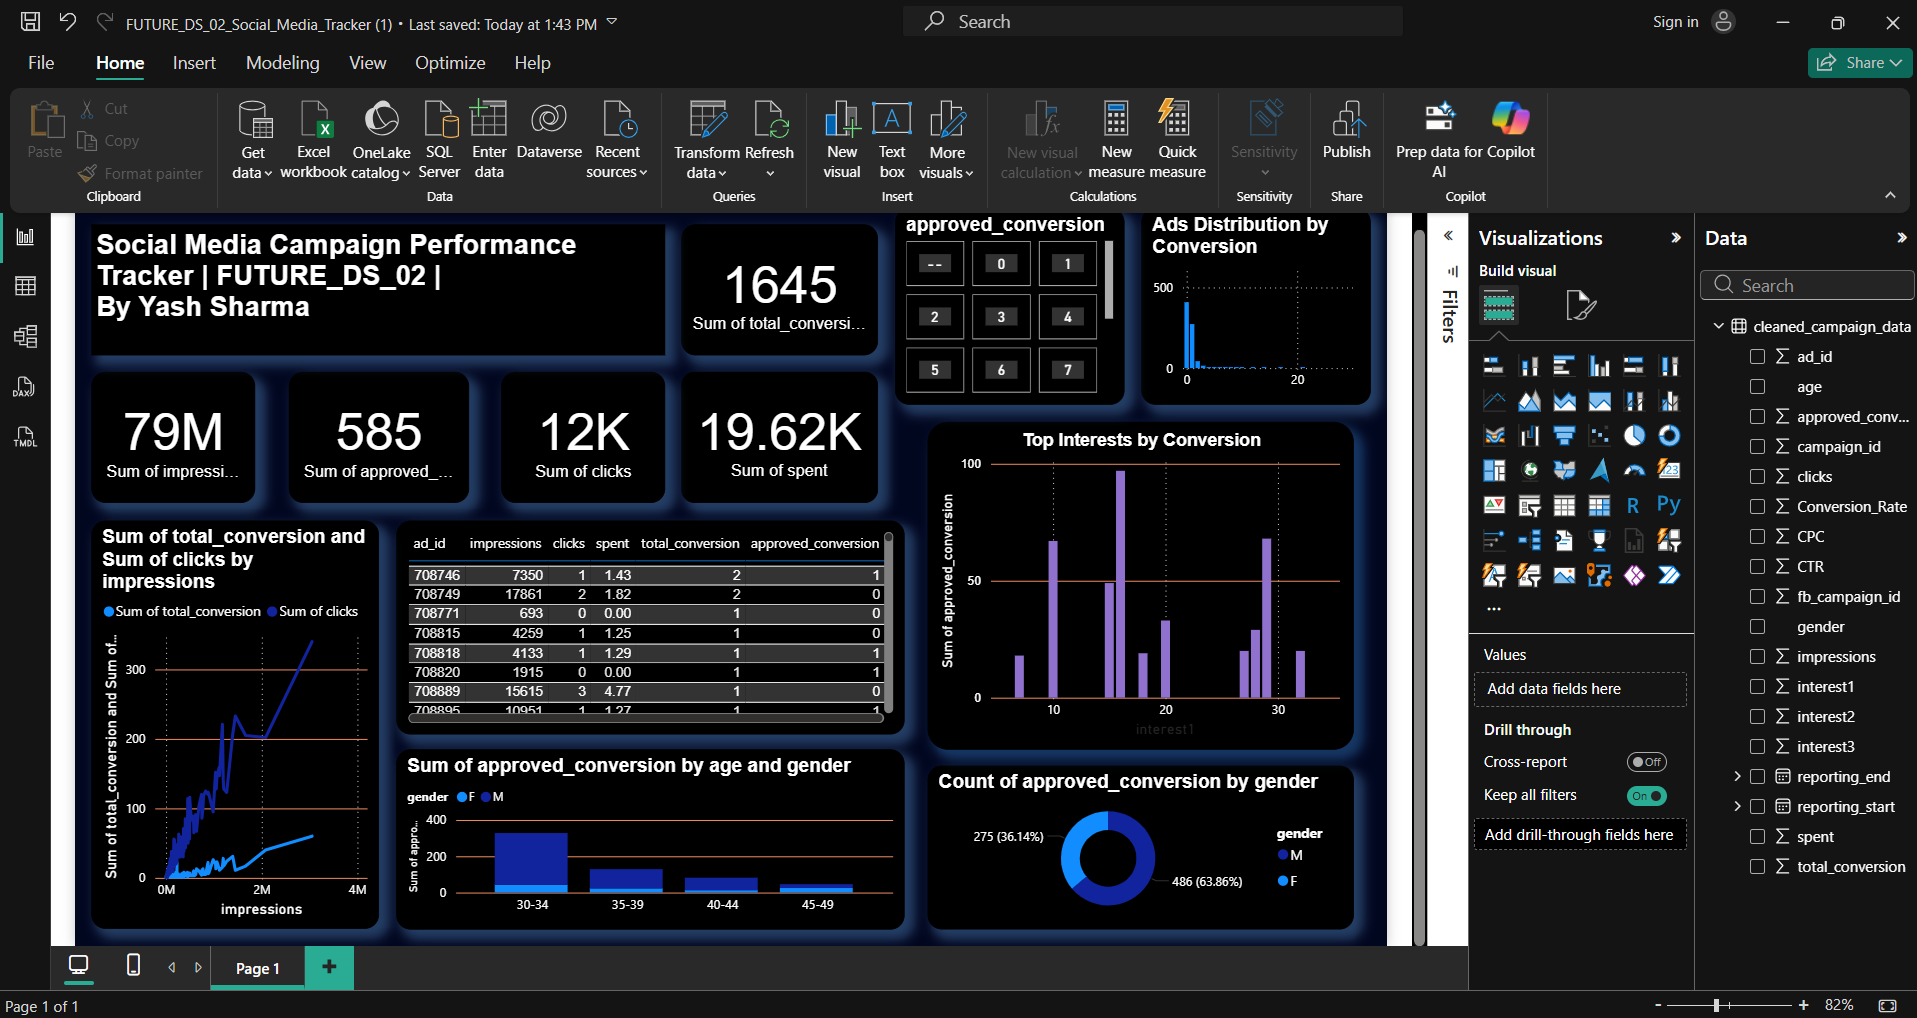

Layout of this report page (visuals, bound fields, positions):
{"tool":"powerbi","page":{"name":"Page 1","canvas":[1280,720],"ordinal":0},"visuals":[{"type":"card","fields":{"Values":["Sum(cleaned_campaign_data.impressions)"]},"box":[16,160,160,128],"z":0},{"type":"card","fields":{"Values":["Sum(cleaned_campaign_data.total_conversion)"]},"box":[592,16,192,128],"z":1000},{"type":"card","fields":{"Values":["Sum(cleaned_campaign_data.spent)"]},"box":[592,160,192,128],"z":2000},{"type":"card","fields":{"Values":["Sum(cleaned_campaign_data.approved_conversion)"]},"box":[208,160,176,128],"z":3000},{"type":"card","fields":{"Values":["Sum(cleaned_campaign_data.clicks)"]},"box":[416,160,160,128],"z":4000},{"type":"columnChart","title":"Ads Distribution by Conversion","fields":{"Y":["CountNonNull(cleaned_campaign_data.ad_id)"],"Category":["cleaned_campaign_data.approved_conversion"]},"box":[1040,0,224,192],"z":5000},{"type":"tableEx","fields":{"Values":["cleaned_campaign_data.ad_id","cleaned_campaign_data.impressions","cleaned_campaign_data.clicks","cleaned_campaign_data.spent","cleaned_campaign_data.total_conversion","cleaned_campaign_data.approved_conversion"]},"box":[313.4,304.9,496.3,208.5],"z":6000},{"type":"lineChart","fields":{"Y":["Sum(cleaned_campaign_data.total_conversion)","Sum(cleaned_campaign_data.clicks)"],"Category":["cleaned_campaign_data.impressions"]},"box":[15.9,304.9,280.5,398.8],"z":7000},{"type":"donutChart","fields":{"Category":["cleaned_campaign_data.gender"],"Y":["CountNonNull(cleaned_campaign_data.approved_conversion)"]},"box":[832,544,416,160],"z":8000},{"type":"columnChart","fields":{"Category":["cleaned_campaign_data.age"],"Y":["Sum(cleaned_campaign_data.approved_conversion)"],"Series":["cleaned_campaign_data.gender"]},"box":[313.4,528,496.3,175.6],"z":9000},{"type":"clusteredColumnChart","title":"Top Interests by Conversion","fields":{"Y":["Sum(cleaned_campaign_data.approved_conversion)"],"Category":["cleaned_campaign_data.interest1"]},"box":[832,208,416,320],"z":10000},{"type":"advancedSlicerVisual","fields":{"Values":["cleaned_campaign_data.approved_conversion"]},"box":[800,0,224,192],"z":12000},{"type":"textbox","box":[16,16,560,128],"z":13000}]}

Visuals, with their boxes on the page's 1280x720 design canvas (x1, y1, x2, y2). These are canvas units, not pixel positions in the 1917x1018 screenshot, which may show the page scaled, cropped or inside an application window:
card - Sum(cleaned_campaign_data.impressions): [x1=16, y1=160, x2=176, y2=288]
card - Sum(cleaned_campaign_data.total_conversion): [x1=592, y1=16, x2=784, y2=144]
card - Sum(cleaned_campaign_data.spent): [x1=592, y1=160, x2=784, y2=288]
card - Sum(cleaned_campaign_data.approved_conversion): [x1=208, y1=160, x2=384, y2=288]
card - Sum(cleaned_campaign_data.clicks): [x1=416, y1=160, x2=576, y2=288]
"Ads Distribution by Conversion" columnChart: [x1=1040, y1=0, x2=1264, y2=192]
tableEx - cleaned_campaign_data.ad_id x cleaned_campaign_data.impressions: [x1=313, y1=305, x2=810, y2=513]
lineChart - Sum(cleaned_campaign_data.total_conversion) x Sum(cleaned_campaign_data.clicks): [x1=16, y1=305, x2=296, y2=704]
donutChart - cleaned_campaign_data.gender x CountNonNull(cleaned_campaign_data.approved_conversion): [x1=832, y1=544, x2=1248, y2=704]
columnChart - cleaned_campaign_data.age x Sum(cleaned_campaign_data.approved_conversion): [x1=313, y1=528, x2=810, y2=704]
"Top Interests by Conversion" clusteredColumnChart: [x1=832, y1=208, x2=1248, y2=528]
advancedSlicerVisual - cleaned_campaign_data.approved_conversion: [x1=800, y1=0, x2=1024, y2=192]
textbox: [x1=16, y1=16, x2=576, y2=144]
